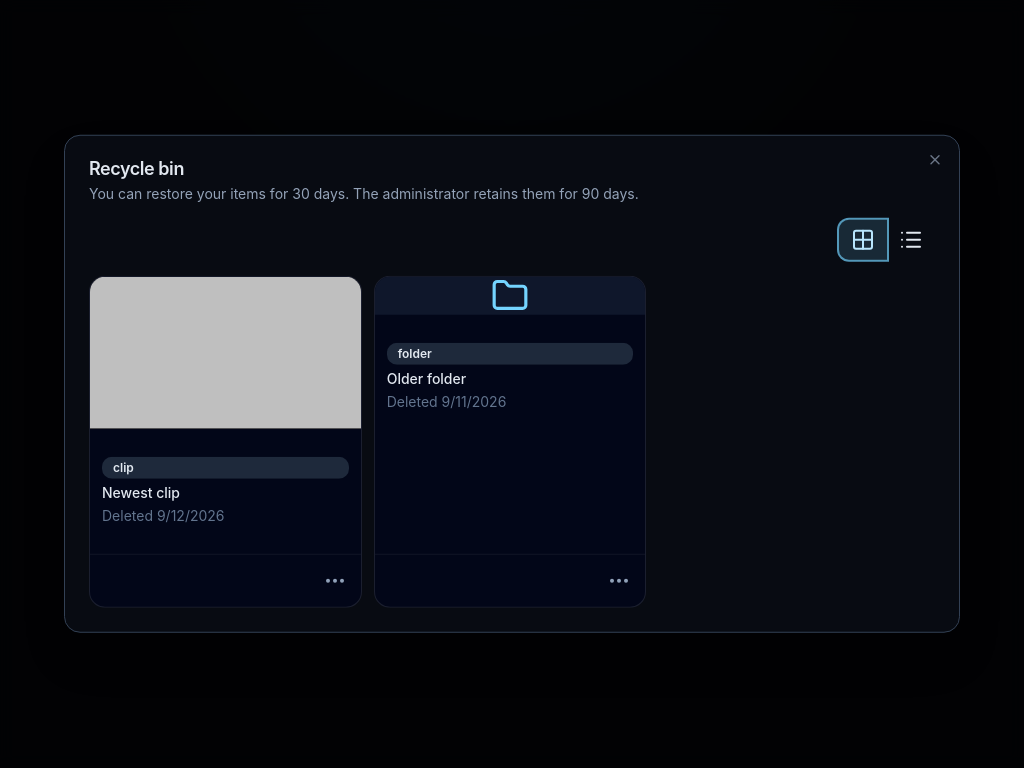
TrashDialog › blocks duplicate restore and keeps a failure beside its item
Expected: the text titled "Newest clip" is shown, [102,483,180,502]
Click the button named "Actions for Newest clip" at (335, 581), box [317,563,353,599]
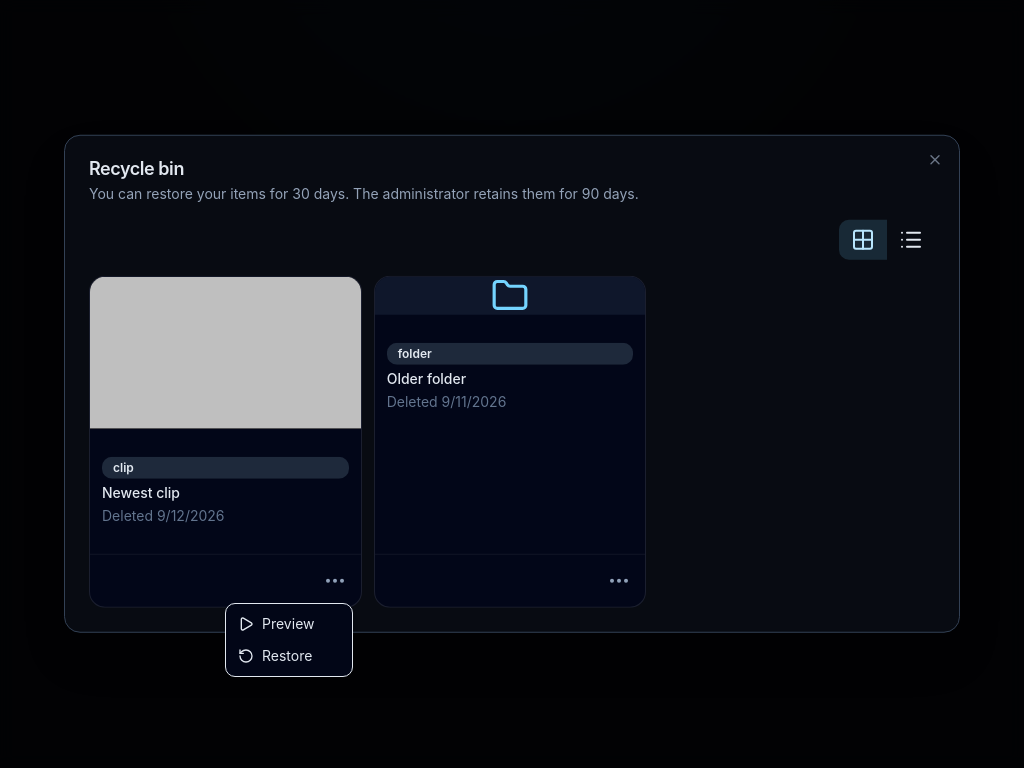
Click the menu item "Restore" at (275, 656), box [238,647,312,664]
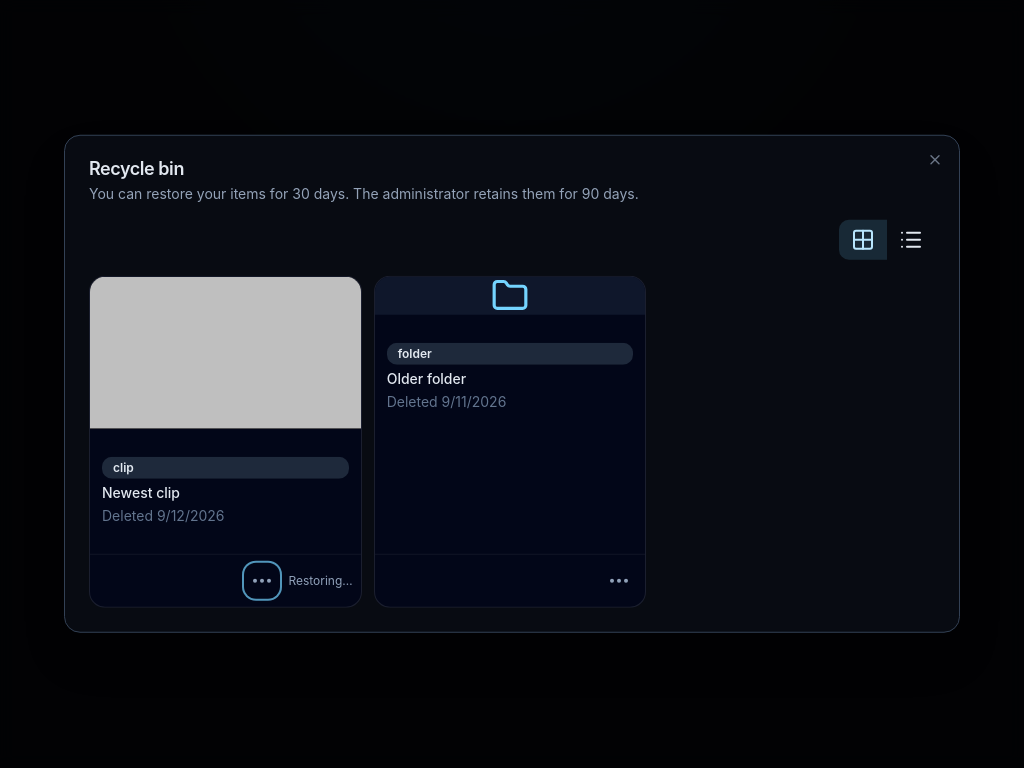
Click the button named "Actions for Newest clip" at (262, 581), box [244,563,280,599]
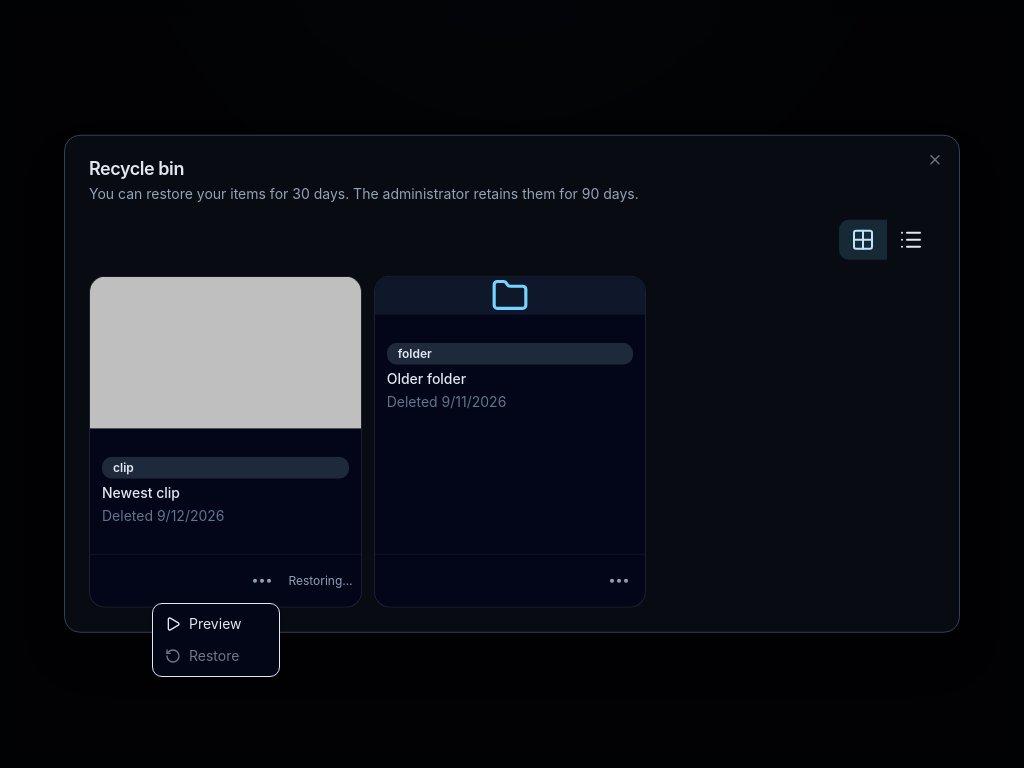
Now the menu item "Restore" has attribute data-disabled, box [165,647,239,664]
Press Escape
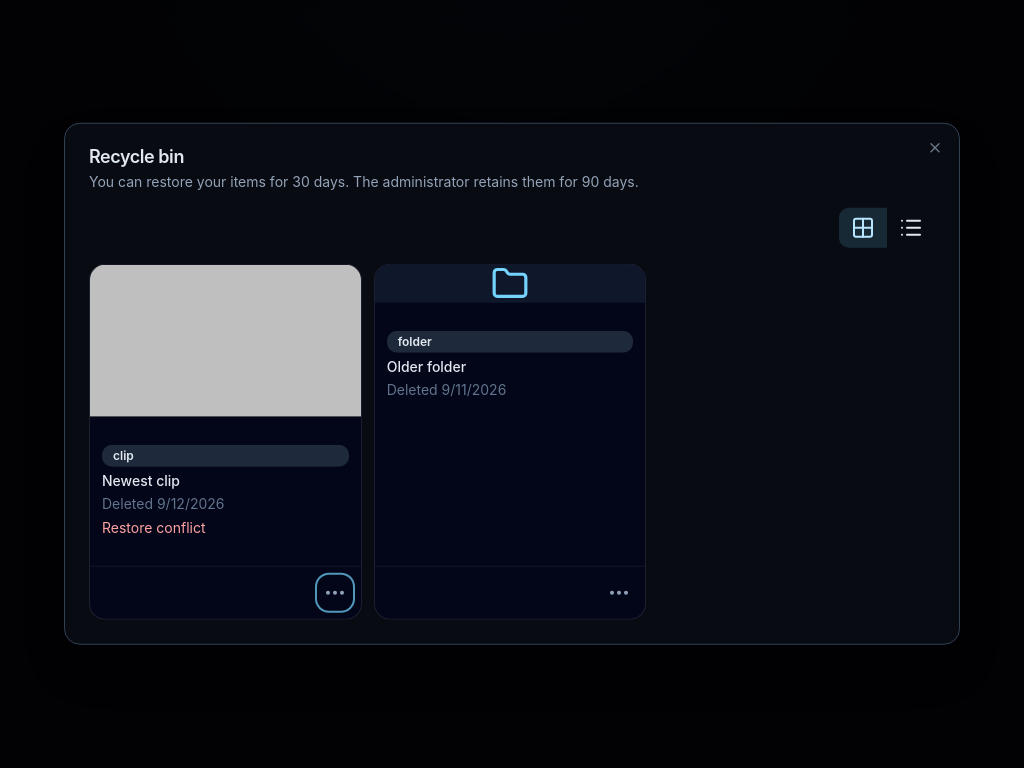
Now the message reads "Restore conflict", box [102,519,206,536]
Now the element titled "Newest clip" shows "Restore conflict", box [102,519,206,536]
